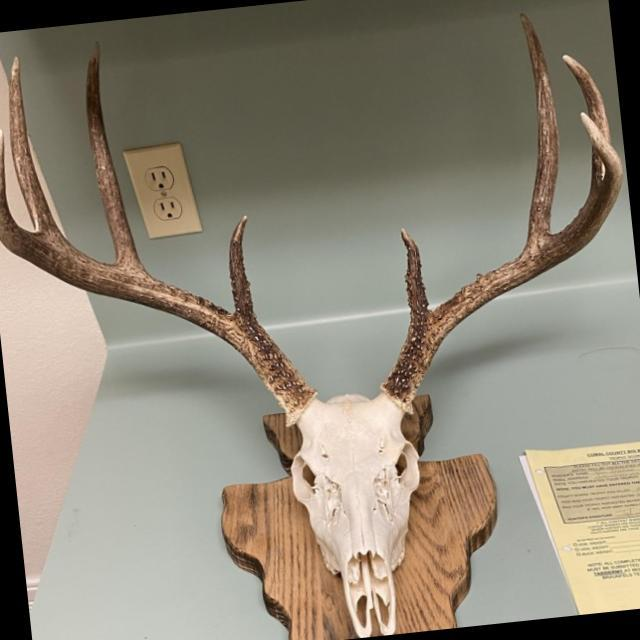L-F: (380, 112, 623, 412)
L-G1: (399, 227, 432, 329)
L-G2: (519, 13, 559, 251)
R-F: (0, 128, 316, 426)
R-G1: (228, 214, 258, 324)
R-G2: (85, 41, 149, 276)
R-G3: (8, 55, 67, 242)
